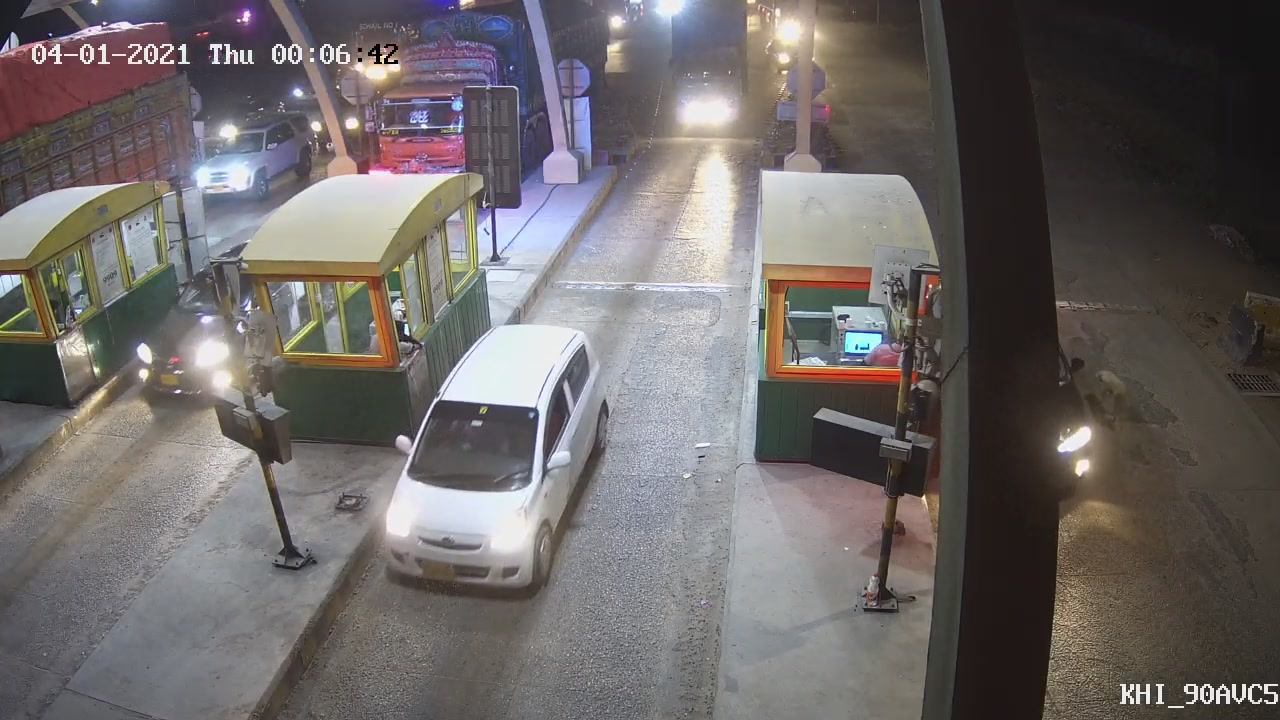F1: (365, 321, 629, 617)
